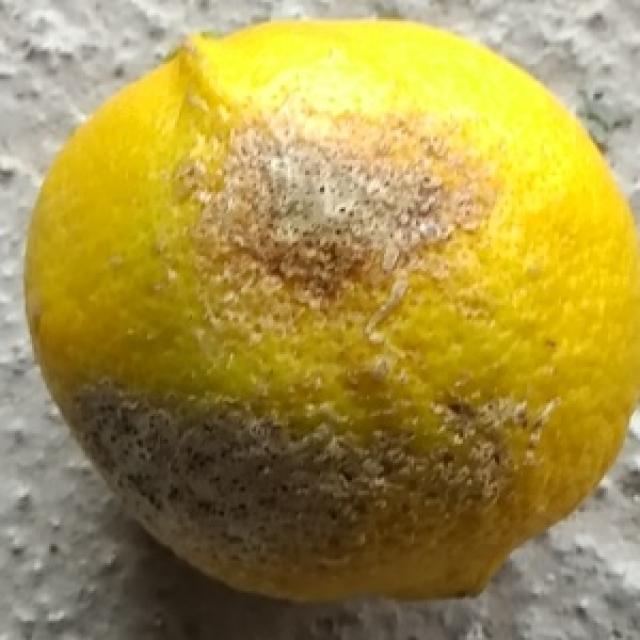overripe: (19, 8, 640, 611)
